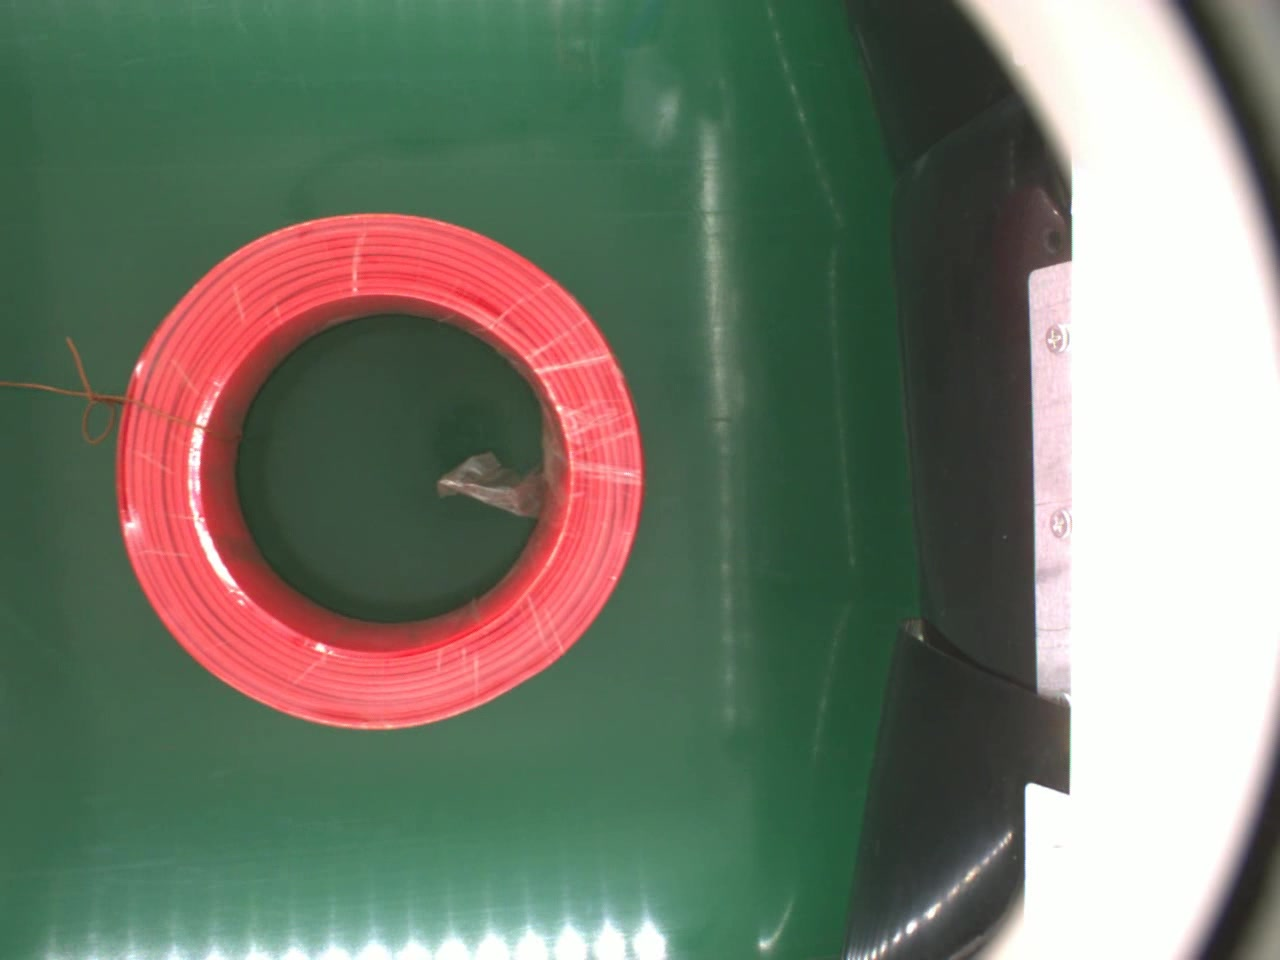red: (110, 209, 648, 732)
